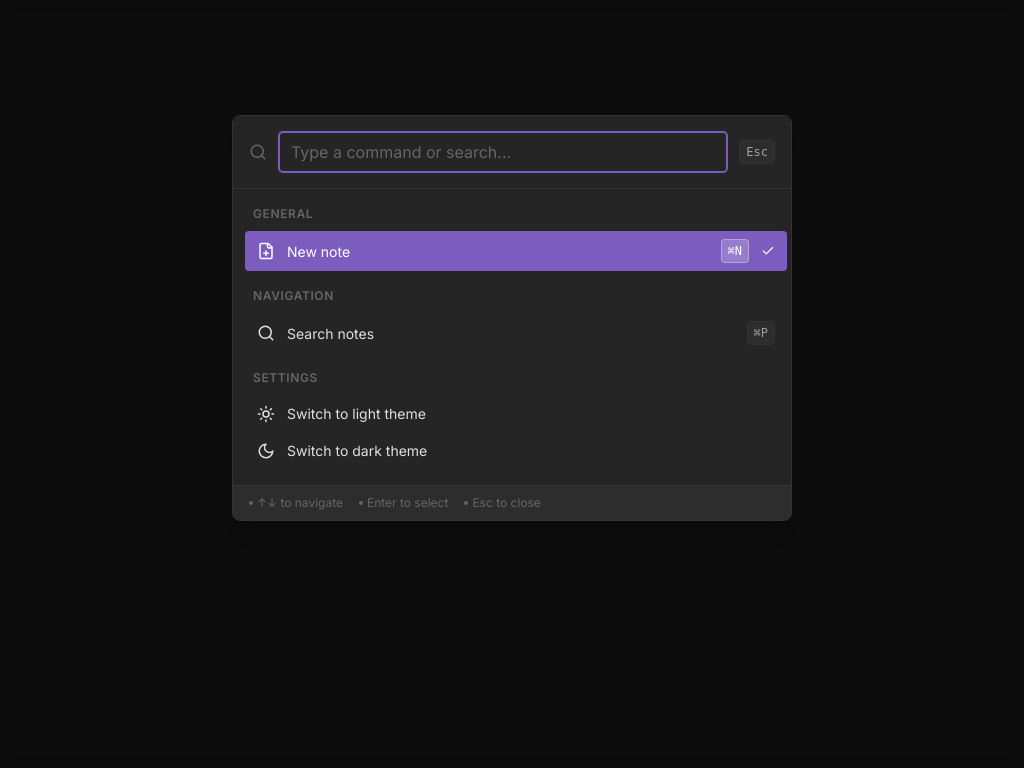
Test: CommandPalette › should show empty state when no commands match search
The image size is (1024, 768).
Type "nonexistent" into the field with placeholder "Type a command or search..." at (503, 152), box [279,132,727,172]
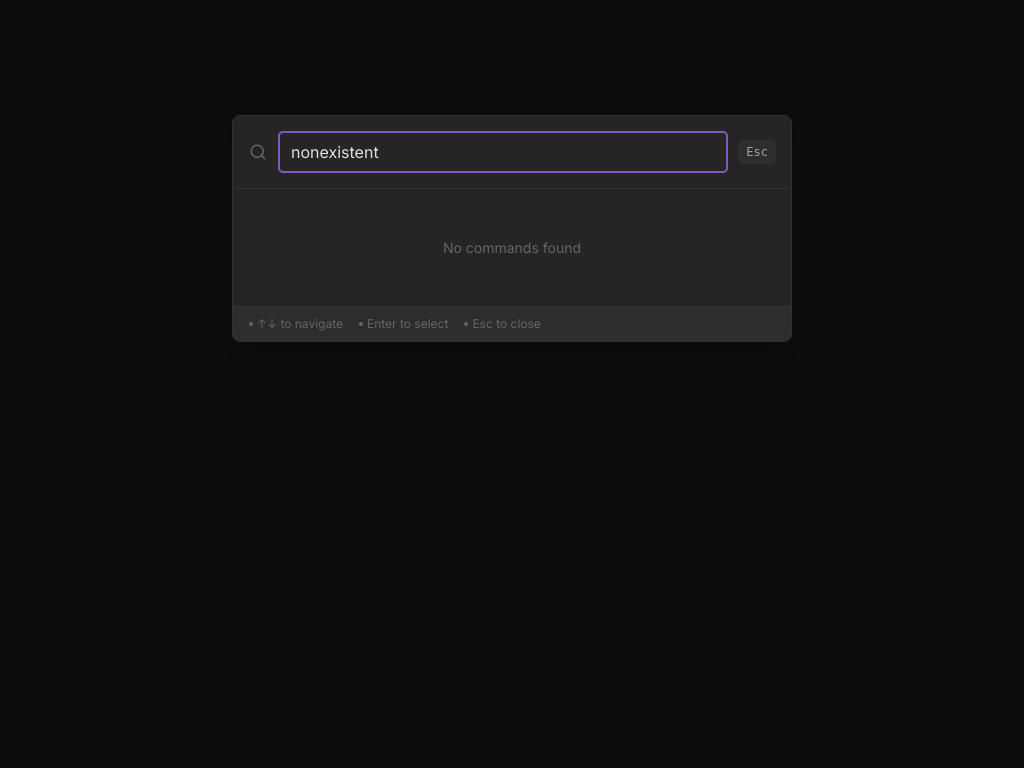
Result: the text "No commands found" is shown at [443,239,581,256]
